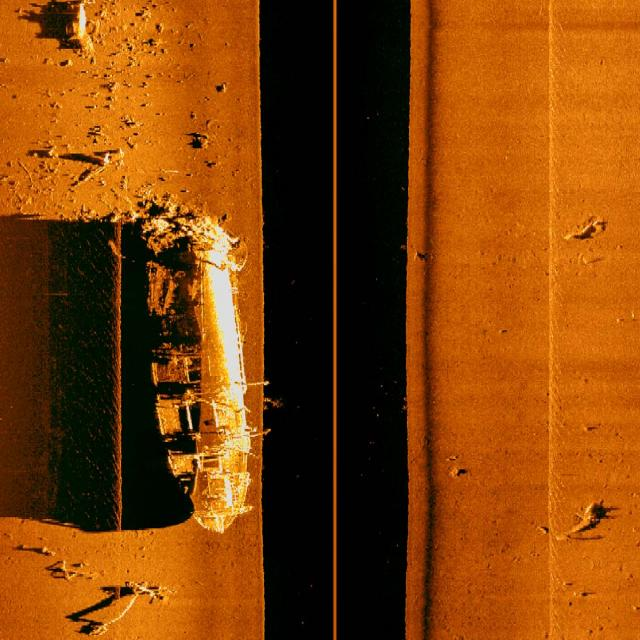ship: (144, 216, 261, 536)
